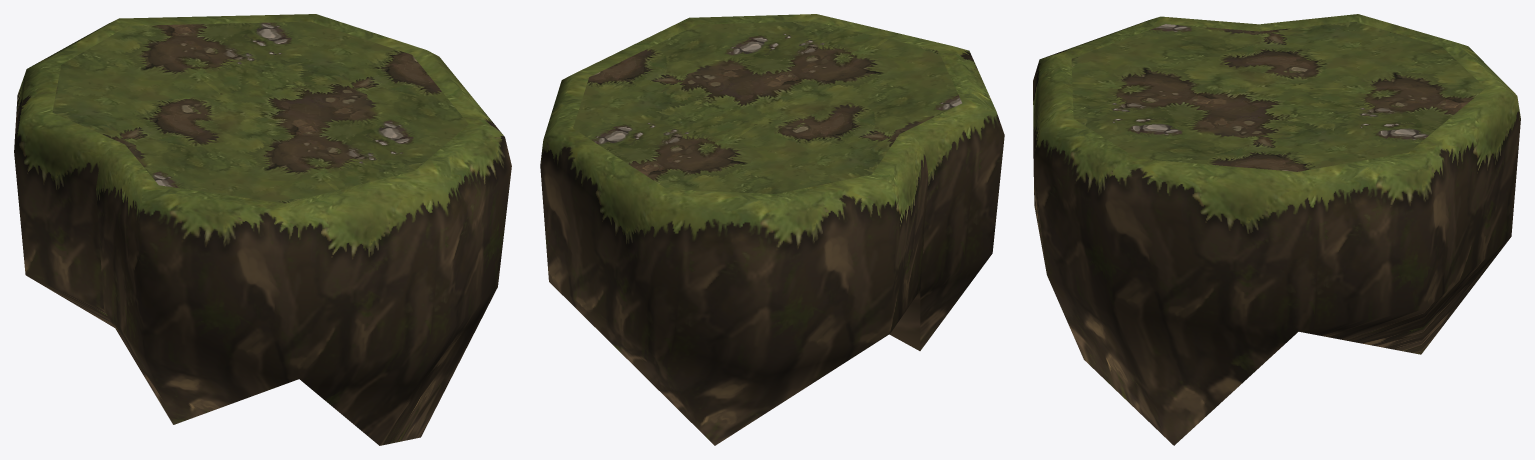
The model's file is F2_wujian_01.FBX.
The picture shows the model from 3 angles, left to right: view 1: azimuth 30°, elevation 25°; view 2: azimuth 150°, elevation 25°; view 3: azimuth 270°, elevation 25°; orthographic projection. The views are drawn at different scales.
Parts seen in each view (by area): view 1: Cylinder08, 对象36; view 2: Cylinder08, 对象36; view 3: Cylinder08, 对象36.
Boxes of the visible parts, x1,y1,x2,y2 form: Cylinder08: (14, 14, 511, 445); 对象36: (52, 21, 468, 203); Cylinder08: (540, 14, 1004, 445); 对象36: (573, 21, 961, 193); Cylinder08: (1033, 14, 1520, 445); 对象36: (1071, 21, 1485, 171).
Size of the model in its own units: 443 by 345 by 508.
